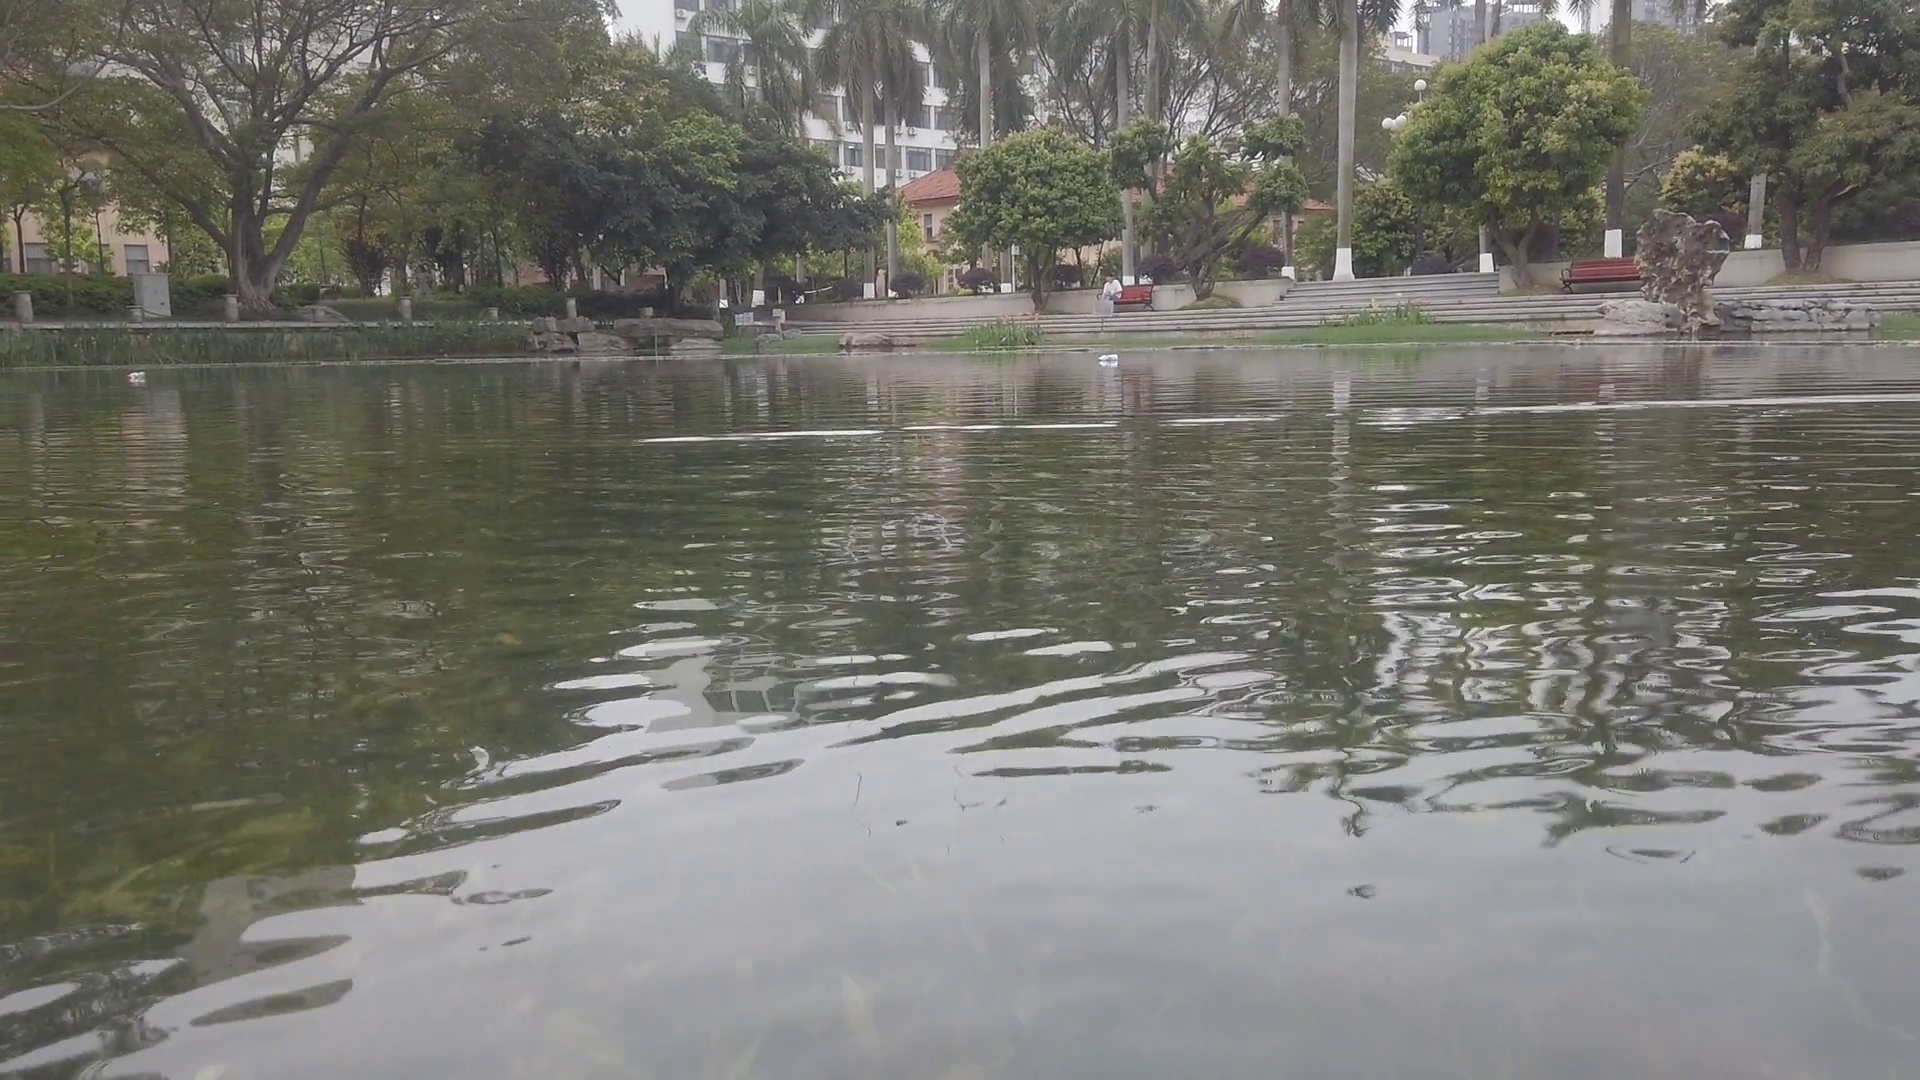bottle: (1096, 351, 1122, 364), (127, 372, 145, 381)
